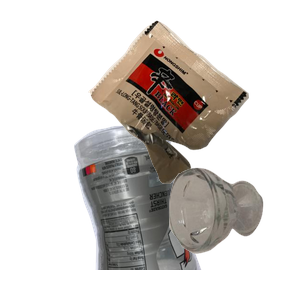glass: (166, 165, 300, 300)
metal: (99, 70, 236, 176)
plastic: (71, 120, 265, 300)
trash: (86, 18, 300, 194)
